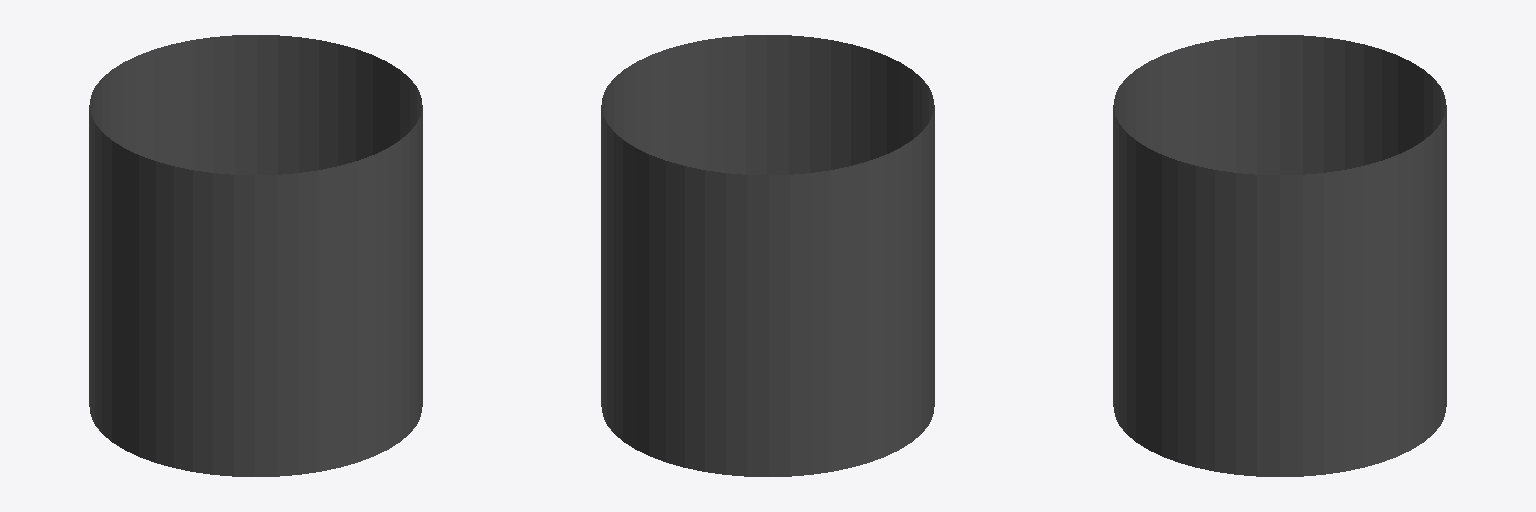
File: pipeEdge.obj
The picture shows the model from 3 angles: view 1: azimuth 30°, elevation 25°; view 2: azimuth 150°, elevation 25°; view 3: azimuth 270°, elevation 25°; orthographic projection.
Parts seen in each view (by area): view 1: BezierCircle_Mesh; view 2: BezierCircle_Mesh; view 3: BezierCircle_Mesh.
Boxes of the visible parts, <box> form: BezierCircle_Mesh: <box>89,35,422,476</box>; BezierCircle_Mesh: <box>601,35,934,476</box>; BezierCircle_Mesh: <box>1113,35,1446,476</box>.
Bounding box in the file's own units: 4 × 4 × 4.